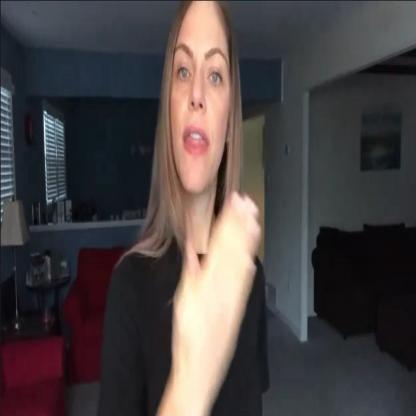ThankYou: (139, 1, 269, 395)
